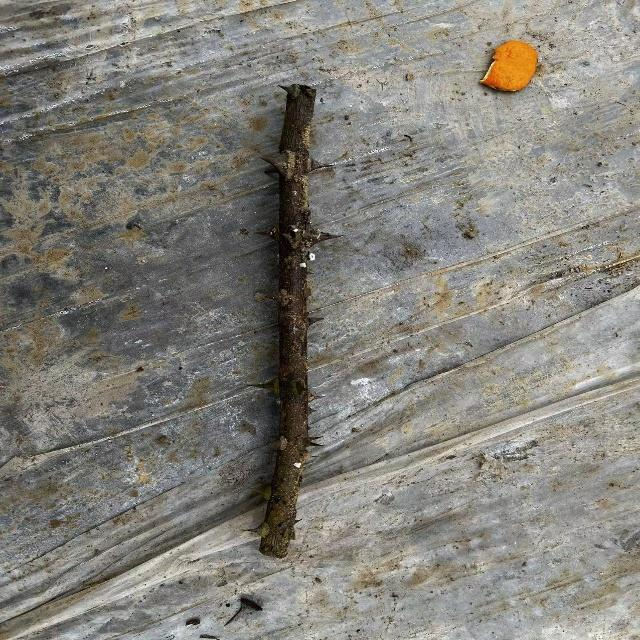branch: (258, 86, 318, 560)
